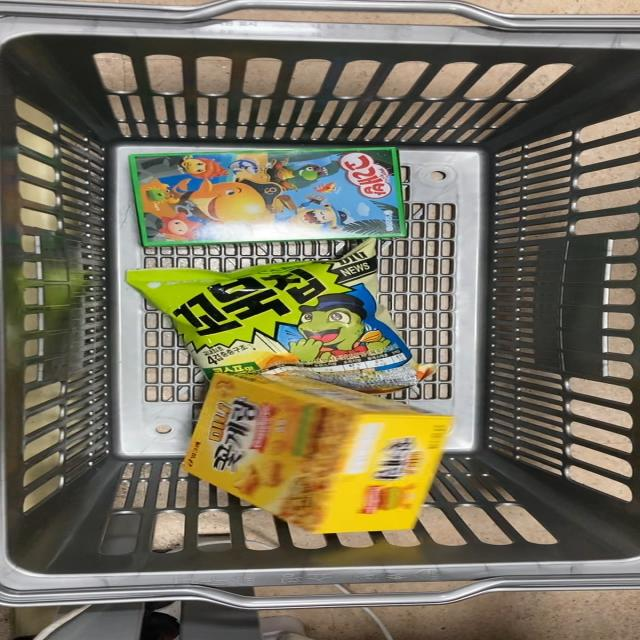ggobukchip: (132, 246, 440, 417)
goraebob: (131, 151, 415, 242)
minicrab: (174, 372, 452, 537)
